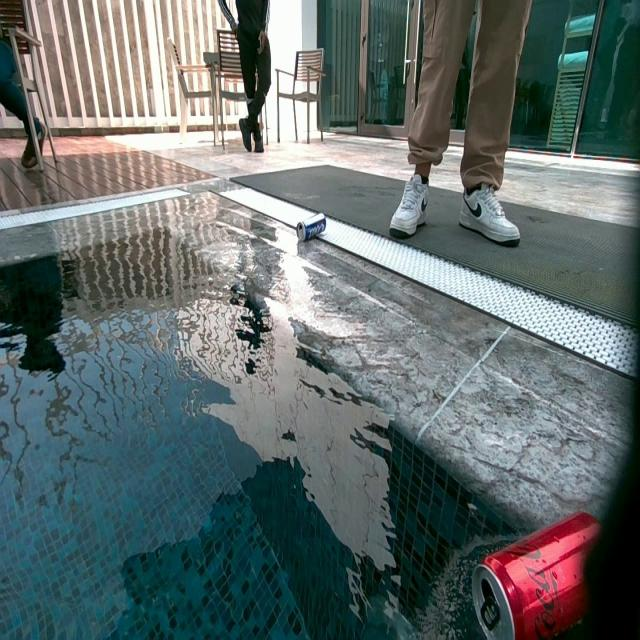Cans: (471, 512, 601, 640), (297, 213, 328, 244)
